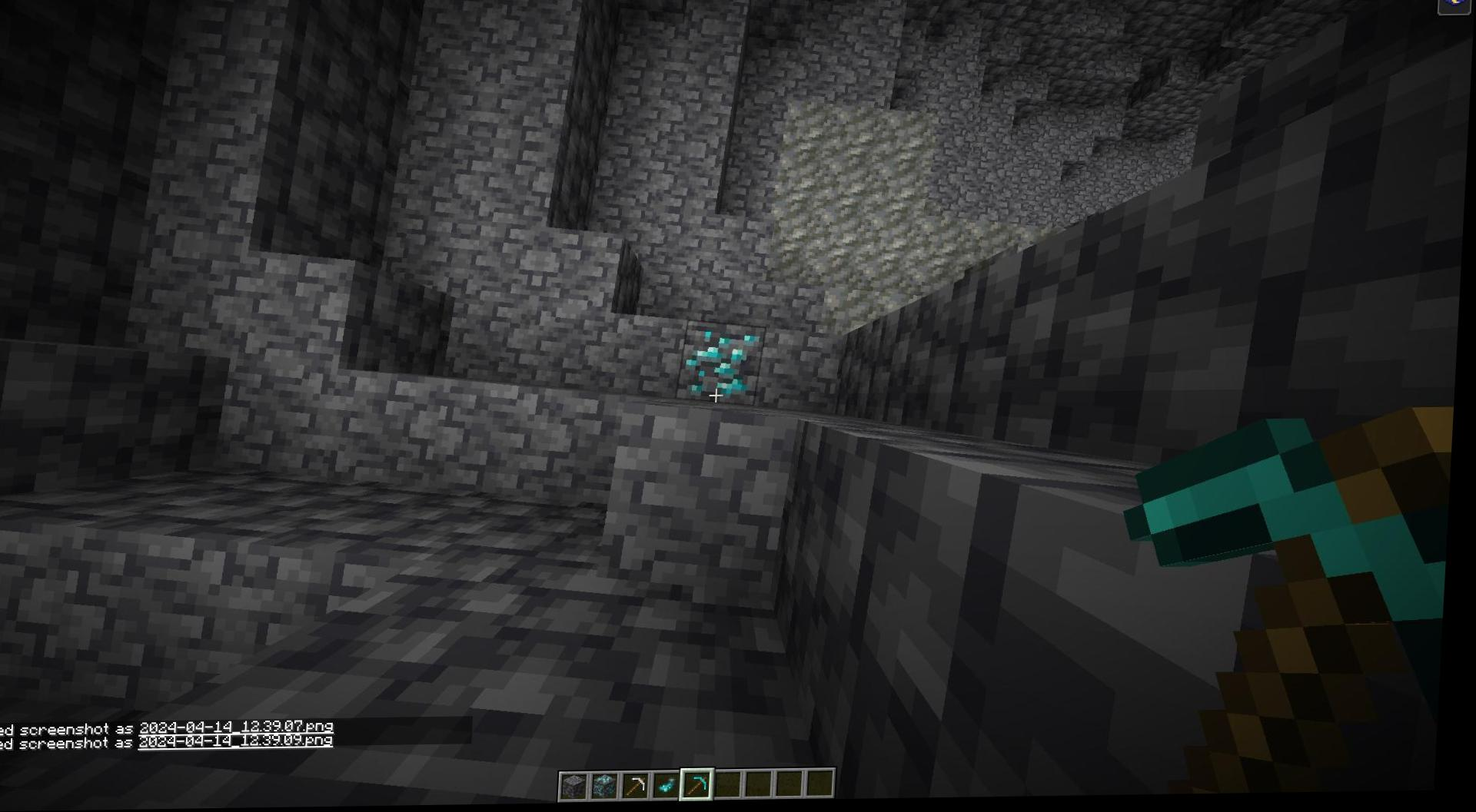diamond ore: (687, 328, 763, 410)
